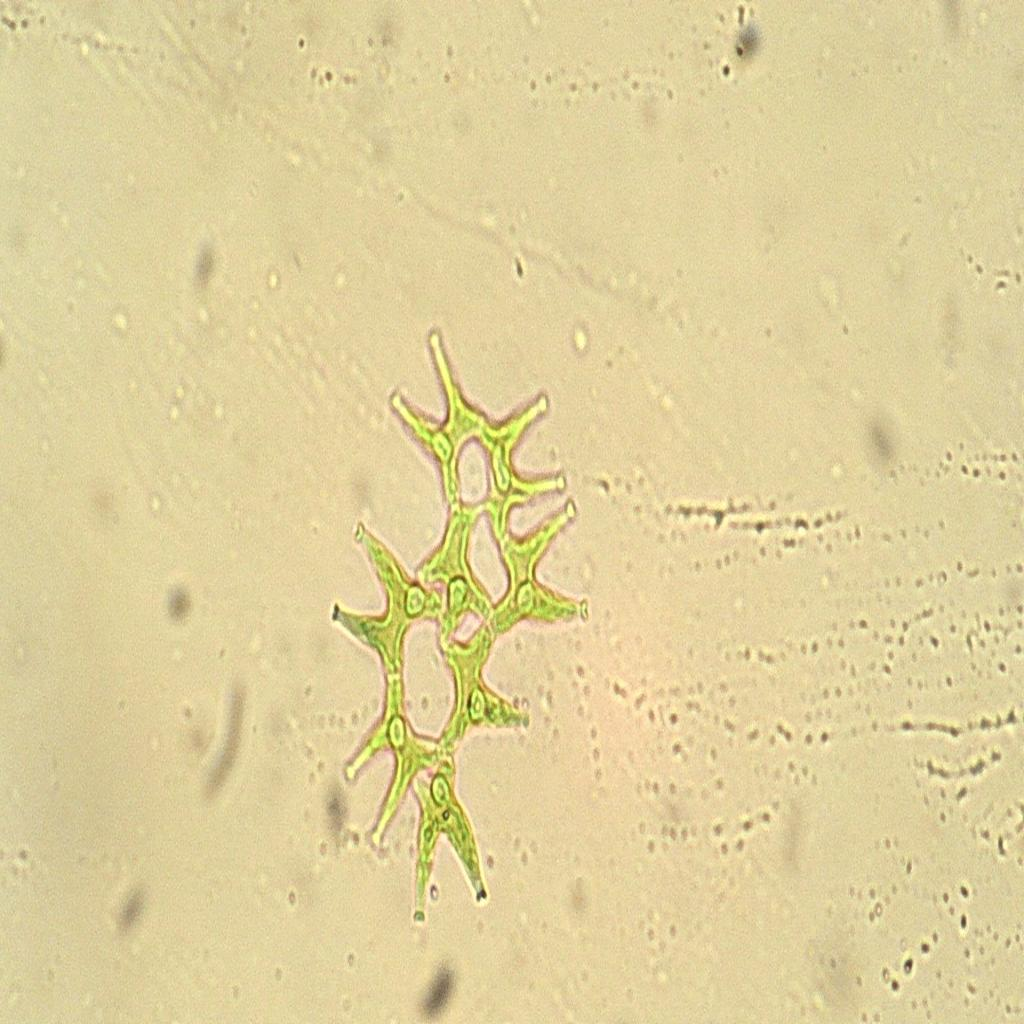Pediastrum_1TH: (325, 273, 608, 946)
